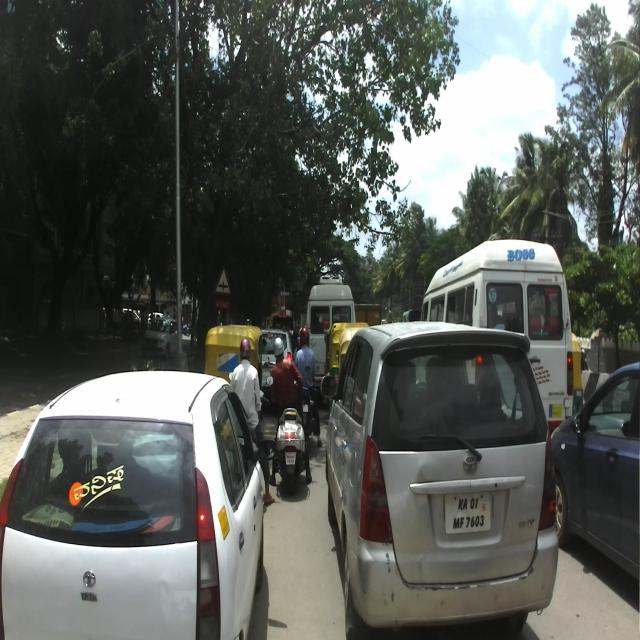car: (322, 321, 558, 638), (0, 370, 277, 639)
mini-bus: (419, 239, 572, 431)
scooter: (270, 364, 312, 498)
